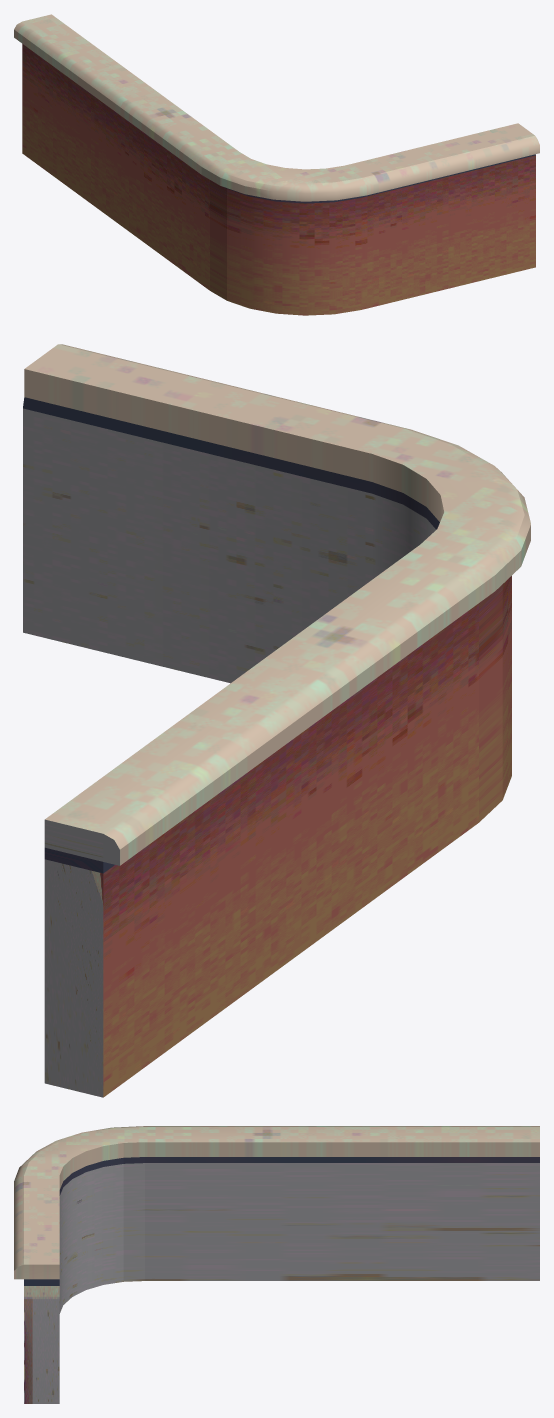
Rendered from MichealsLshapedTable.fbx.
The picture shows the model from 3 angles, top to bottom: view 1: azimuth 30°, elevation 25°; view 2: azimuth 150°, elevation 25°; view 3: azimuth 270°, elevation 25°; orthographic projection. The views are drawn at different scales.
Visible parts, largest first — view 1: Cube.001; view 2: Cube.001; view 3: Cube.001.
Part boxes in pixels (x1,y1,x2,y2): Cube.001: (14,14,539,315); Cube.001: (23,344,530,1097); Cube.001: (14,1126,539,1403).
Bounding box in the file's own units: 216 × 98.39 × 338.
